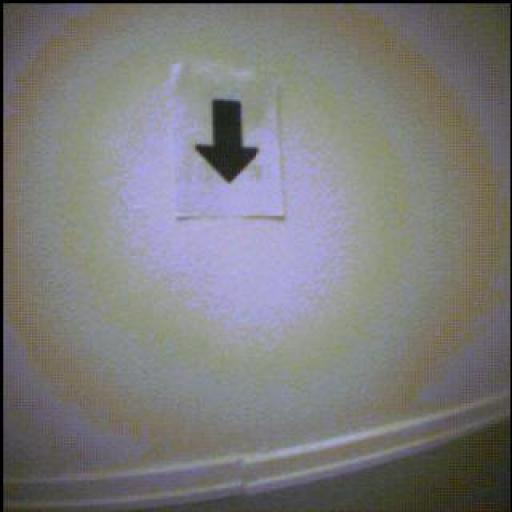arrow: (196, 101, 259, 184)
